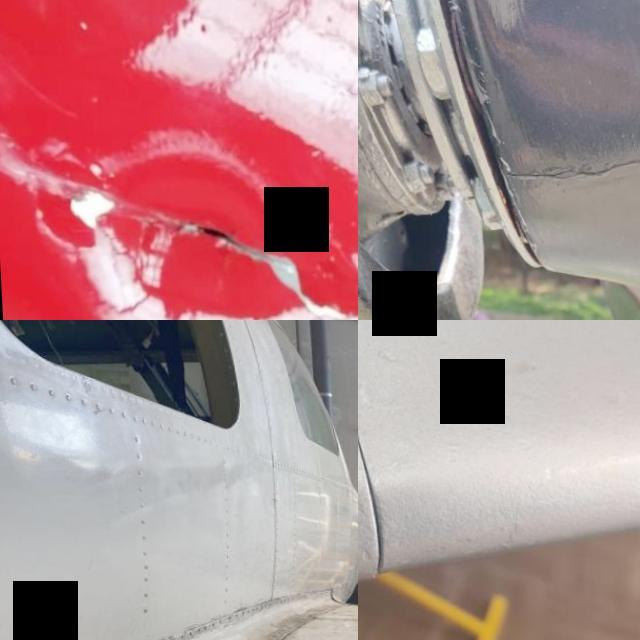Crack: (18, 125, 358, 320), (493, 97, 640, 227)
Missing_Fastener: (184, 630, 190, 634), (176, 633, 180, 637), (194, 627, 198, 631), (199, 624, 203, 628), (208, 620, 212, 624), (166, 638, 170, 640), (216, 617, 218, 621)
